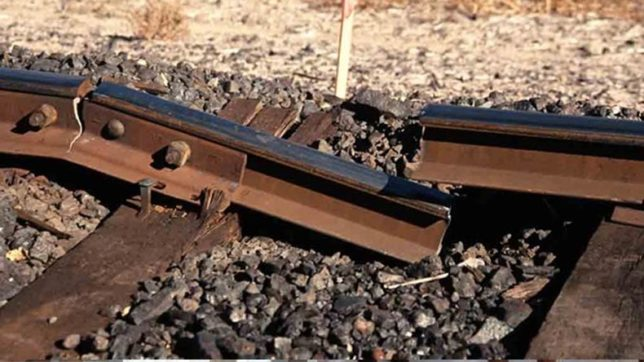crack: (47, 51, 490, 291)
track: (523, 61, 625, 255)
